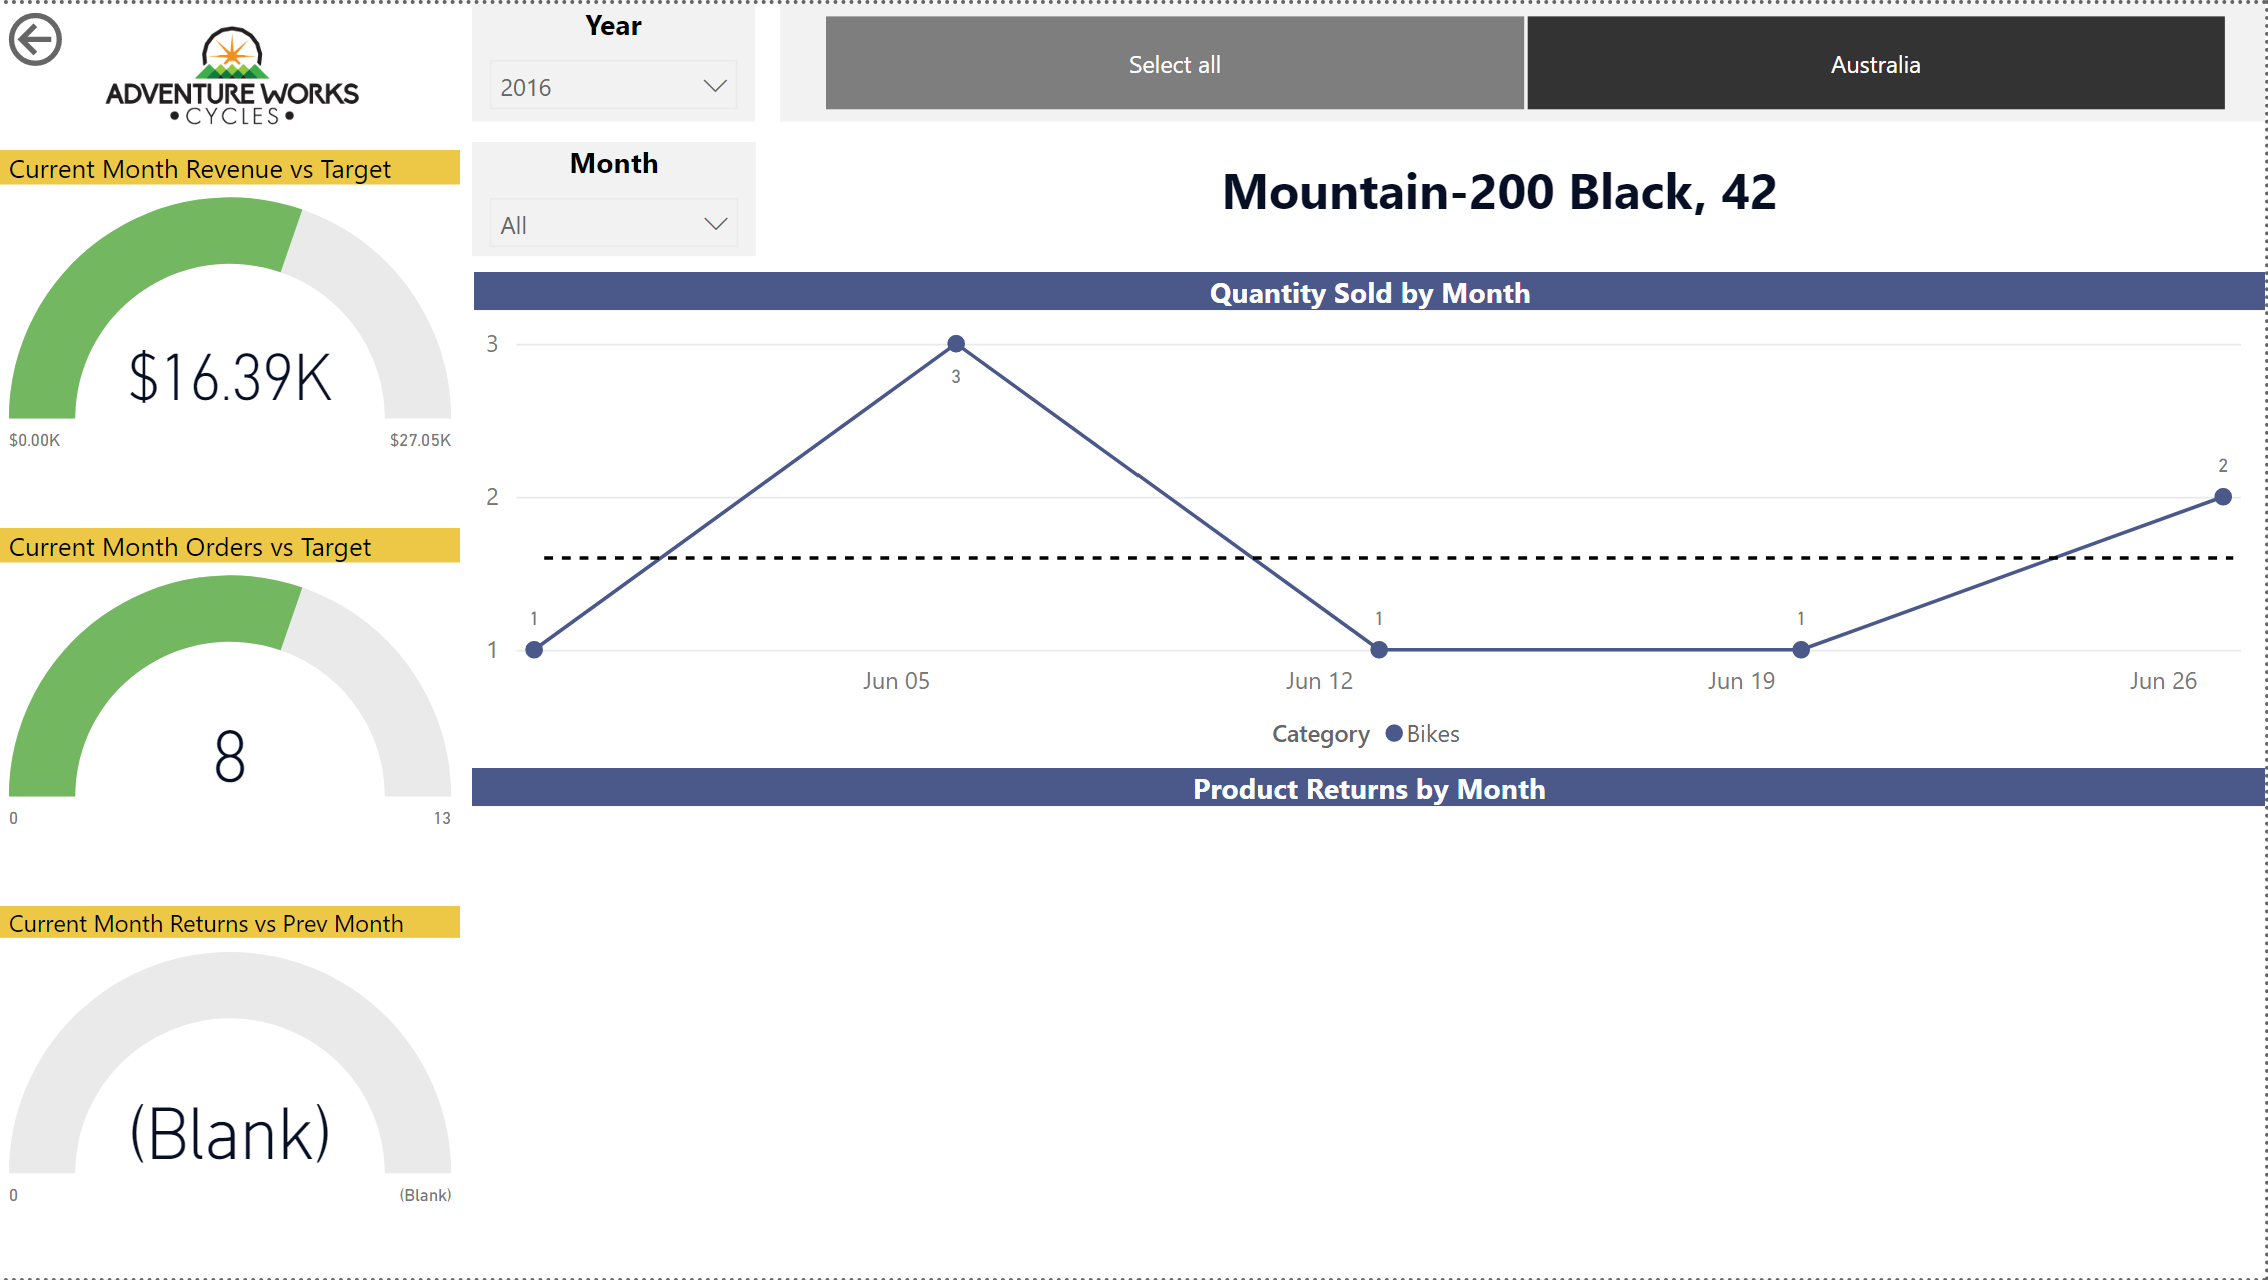

The page's visual inventory and layout, read from the dashboard file:
{"tool":"powerbi","page":{"name":"Product Details","canvas":[1280,720],"ordinal":1},"visuals":[{"type":"image","box":[0,2.9,261.8,74.2],"z":0},{"type":"actionButton","box":[0,0,100,40],"z":1000},{"type":"slicer","title":"Country","fields":{"Values":["AW_Territories_Lookup.Country"]},"box":[440.8,0,839.8,66.7],"z":2000},{"type":"lineChart","title":"Quantity Sold by Month","fields":{"Category":["AW_Calendar_Lookup.Start of Week"],"Series":["AW_Product_Category_Lookup.CategoryName"],"Y":["AW_Sales.Quantity Sold"]},"box":[267.9,151.7,1012.1,279.7],"z":3000},{"type":"lineChart","title":"Product Returns by Month","fields":{"Category":["AW_Calendar_Lookup.Start of Week"],"Series":["AW_Product_Category_Lookup.CategoryName"],"Y":["AW_Returns.Total Returns"]},"box":[266.7,431.4,1013.3,280.9],"z":4000},{"type":"gauge","title":"Current Month Revenue vs Target","fields":{"Y":["AW_Sales.Total Revenue"],"MaxValue":["AW_Sales.Revenue Target"]},"box":[0,82.9,260,180],"z":6000},{"type":"gauge","title":"Current Month Orders vs Target","fields":{"MaxValue":["AW_Sales.Order Target"],"Y":["AW_Sales.Total Orders"]},"box":[0,296.4,260,180],"z":7000},{"type":"gauge","title":"Current Month Returns vs Prev Month","fields":{"MaxValue":["AW_Returns.Prev Month Returns"],"Y":["AW_Returns.Total Returns"]},"box":[0,510,260,180],"z":8000},{"type":"slicer","title":"Year","fields":{"Values":["AW_Calendar_Lookup.Year"]},"box":[266.7,0,160,66.4],"z":9000},{"type":"slicer","title":"Month","fields":{"Values":["AW_Calendar_Lookup.Month Name"]},"box":[266.8,78,160.5,64.4],"z":10000},{"type":"card","title":"Top Product","fields":{"Values":["Min(AW_Product_Lookup.ProductName)"]},"box":[440.8,76.9,838.7,61],"z":11000}]}

Visuals, with their boxes in screenshot pixels (x1, y1, x2, y2), scaled from the page's 1280x720 canvas onto the 2268x1280 screenshot:
image: [left=0, top=5, right=464, bottom=137]
actionButton: [left=0, top=0, right=177, bottom=71]
"Country" slicer: [left=781, top=0, right=2267, bottom=119]
"Quantity Sold by Month" lineChart: [left=475, top=270, right=2267, bottom=767]
"Product Returns by Month" lineChart: [left=473, top=767, right=2267, bottom=1266]
"Current Month Revenue vs Target" gauge: [left=0, top=147, right=461, bottom=467]
"Current Month Orders vs Target" gauge: [left=0, top=527, right=461, bottom=847]
"Current Month Returns vs Prev Month" gauge: [left=0, top=907, right=461, bottom=1227]
"Year" slicer: [left=473, top=0, right=756, bottom=118]
"Month" slicer: [left=473, top=139, right=757, bottom=253]
"Top Product" card: [left=781, top=137, right=2267, bottom=245]
